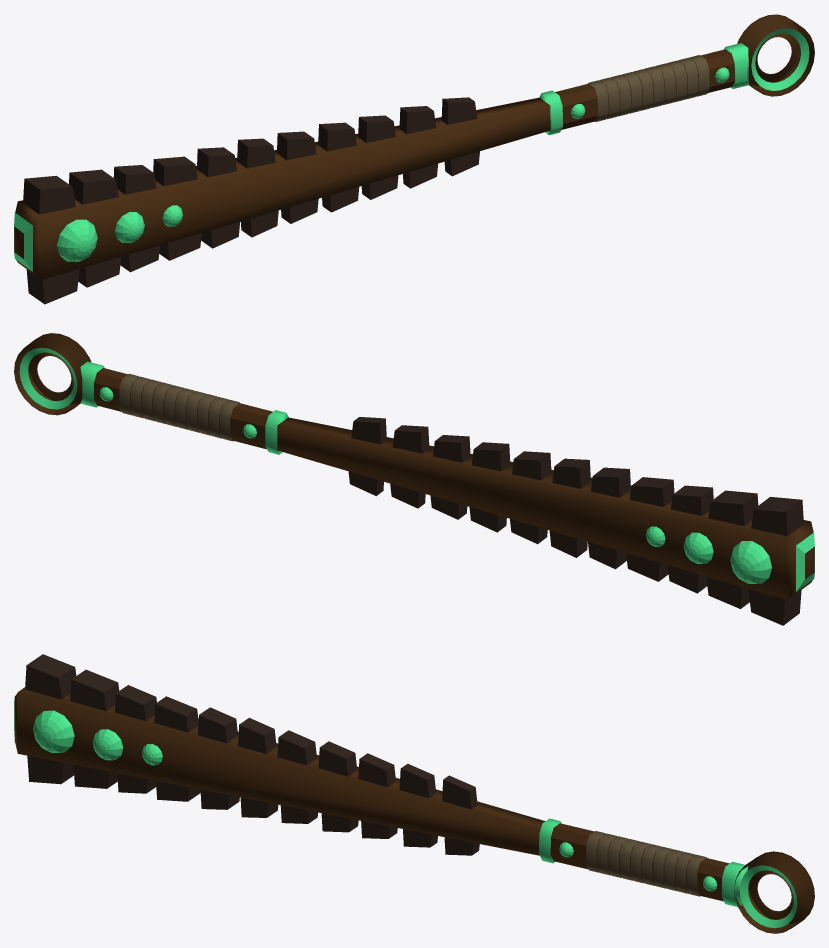
Rendered from Dubinka.fbx.
3 views of the same model, one above another, from view 1: azimuth 30°, elevation 25°; view 2: azimuth 150°, elevation 25°; view 3: azimuth 330°, elevation 25° (orthographic).
Visible parts, largest first — view 1: Cube.030, Cube.029, Cube.001, Cube.004, Cube.002, Cube.003, Sphere, Cube.017, Cube.016, Cube.008, Cube.007, Cube.009 (+20 smaller); view 2: Cube.030, Cube.029, Cube.001, Cube.004, Cube.002, Sphere.001, Cube.003, Cube.017, Cube.016, Cube.008, Cube.007, Cube.009 (+17 smaller); view 3: Cube.030, Cube.029, Cube.001, Cube.004, Cube.002, Cube.003, Sphere, Cube.008, Cube.016, Cube.007, Cube.009, Cube.010 (+19 smaller).
Boxes of the visible parts, x1,y1,x2,y2 form: Cube.030: (14, 97, 550, 279); Cube.029: (588, 55, 709, 121); Cube.001: (737, 14, 814, 96); Cube.004: (555, 49, 734, 129); Cube.002: (23, 175, 75, 214); Cube.003: (69, 169, 118, 204); Sphere: (57, 219, 97, 261); Cube.017: (26, 269, 79, 304); Cube.016: (751, 28, 809, 90); Cube.008: (153, 156, 197, 186); Cube.007: (113, 165, 156, 194); Cube.009: (197, 147, 236, 177); Cube.030: (277, 417, 814, 600); Cube.029: (119, 373, 239, 441); Cube.001: (14, 333, 91, 415); Cube.004: (94, 368, 272, 449); Cube.002: (751, 496, 803, 536); Sphere.001: (730, 541, 771, 583); Cube.003: (708, 490, 758, 525); Cube.017: (748, 589, 801, 625); Cube.016: (19, 347, 77, 409); Cube.008: (630, 477, 674, 507); Cube.007: (671, 485, 713, 515); Cube.009: (591, 467, 630, 497); Cube.030: (15, 687, 545, 855); Cube.029: (586, 831, 706, 896); Cube.001: (734, 851, 814, 933); Cube.004: (550, 823, 729, 901); Cube.002: (25, 654, 76, 699); Cube.003: (70, 669, 119, 710); Sphere: (33, 710, 74, 752); Cube.008: (154, 696, 198, 732); Cube.016: (739, 865, 797, 928); Cube.007: (115, 685, 156, 721); Cube.009: (198, 707, 237, 743); Cube.010: (238, 717, 276, 753).
Size of the model in its own units: 426 by 59.63 by 38.4.
